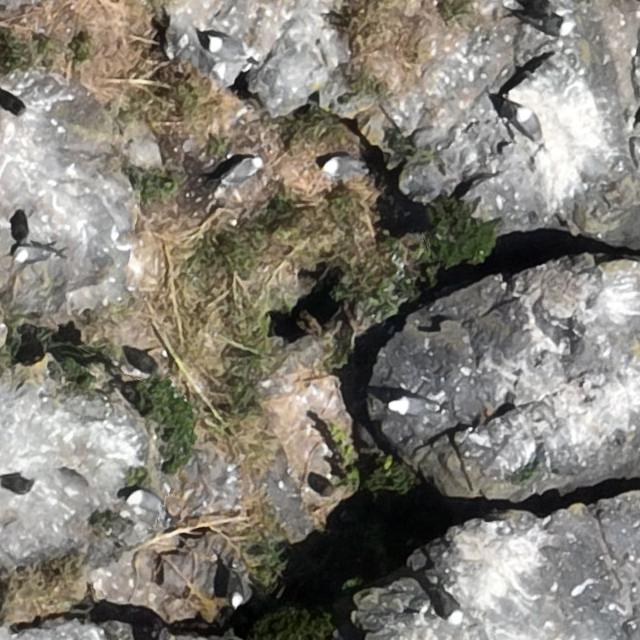umineko: (127, 489, 165, 517), (223, 158, 260, 182), (210, 39, 248, 59), (529, 16, 571, 34), (518, 110, 540, 140), (1, 93, 28, 116), (2, 475, 33, 495), (440, 596, 462, 624), (325, 157, 358, 175), (393, 398, 426, 415), (16, 246, 48, 262), (230, 580, 244, 606)
